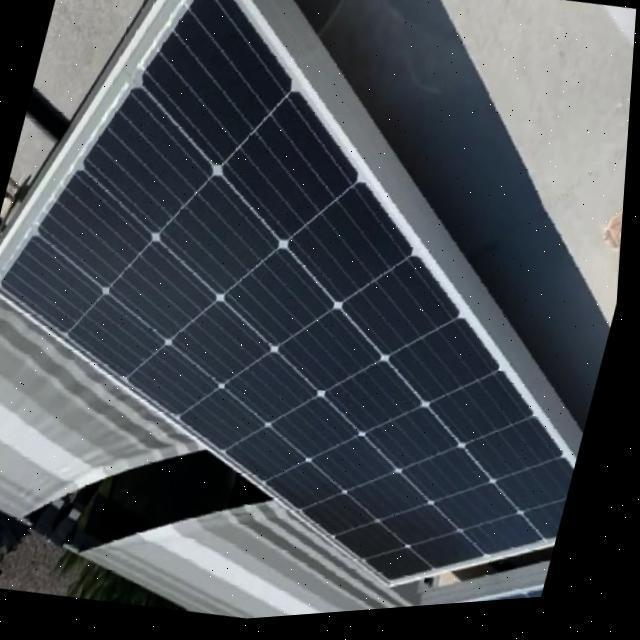Normal Solar Panel: (0, 0, 640, 640), (428, 556, 558, 613)
